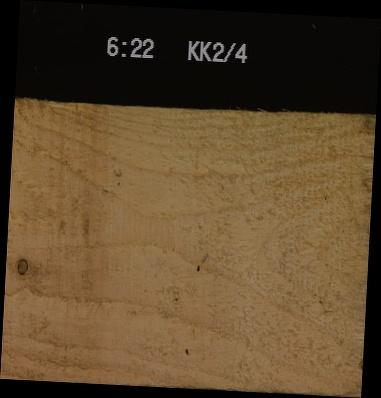dry_knot: (14, 256, 28, 276)
